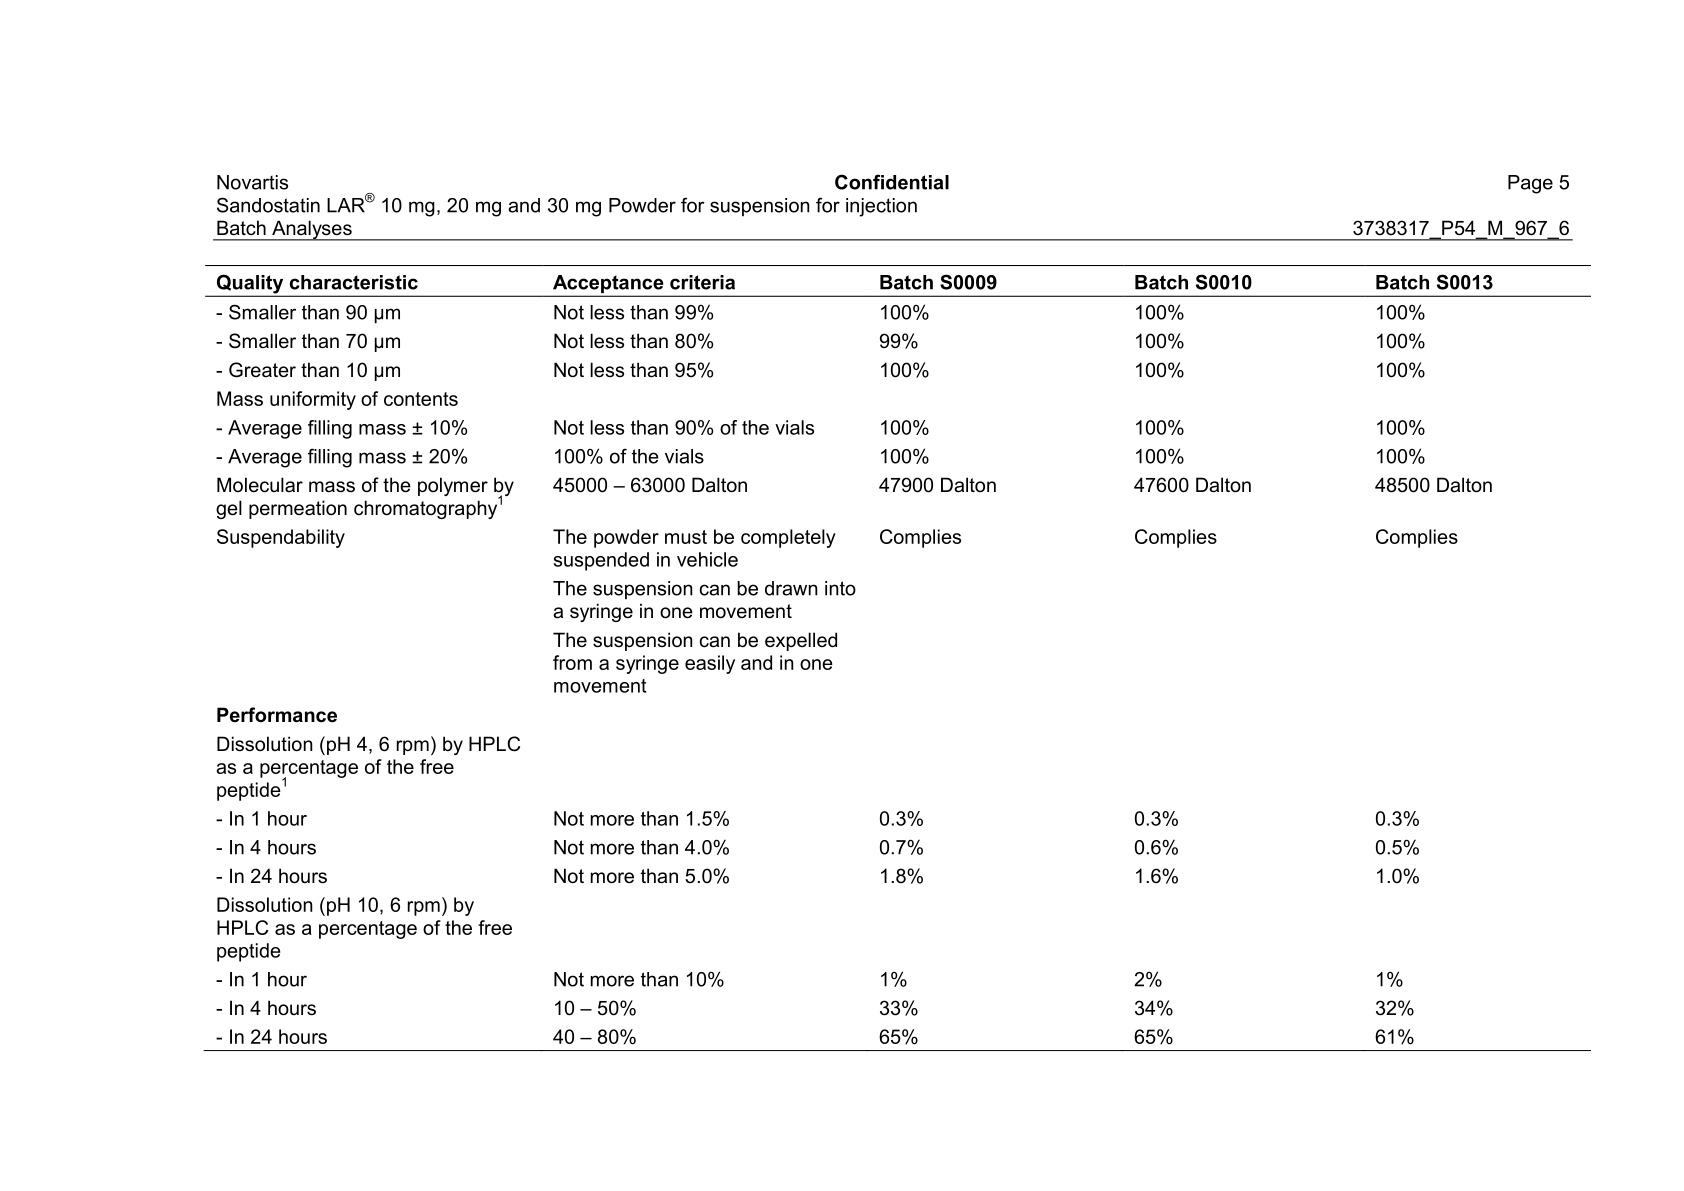partial_lined: (201, 263, 1593, 1051)
